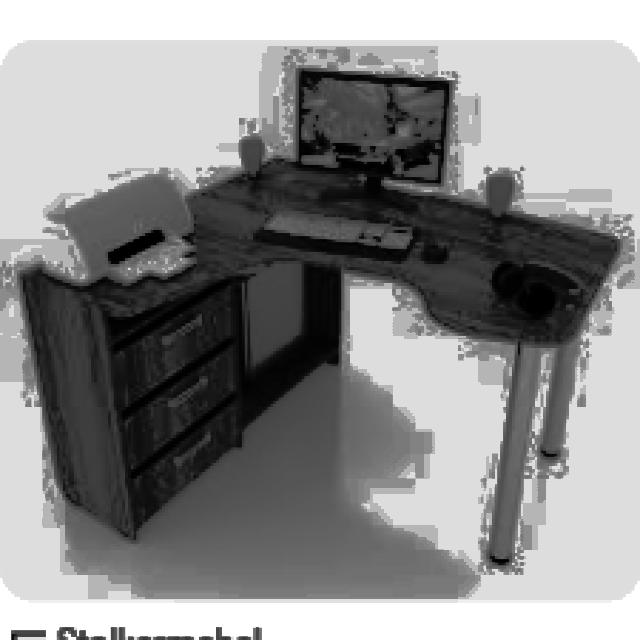table: (17, 152, 620, 562)
